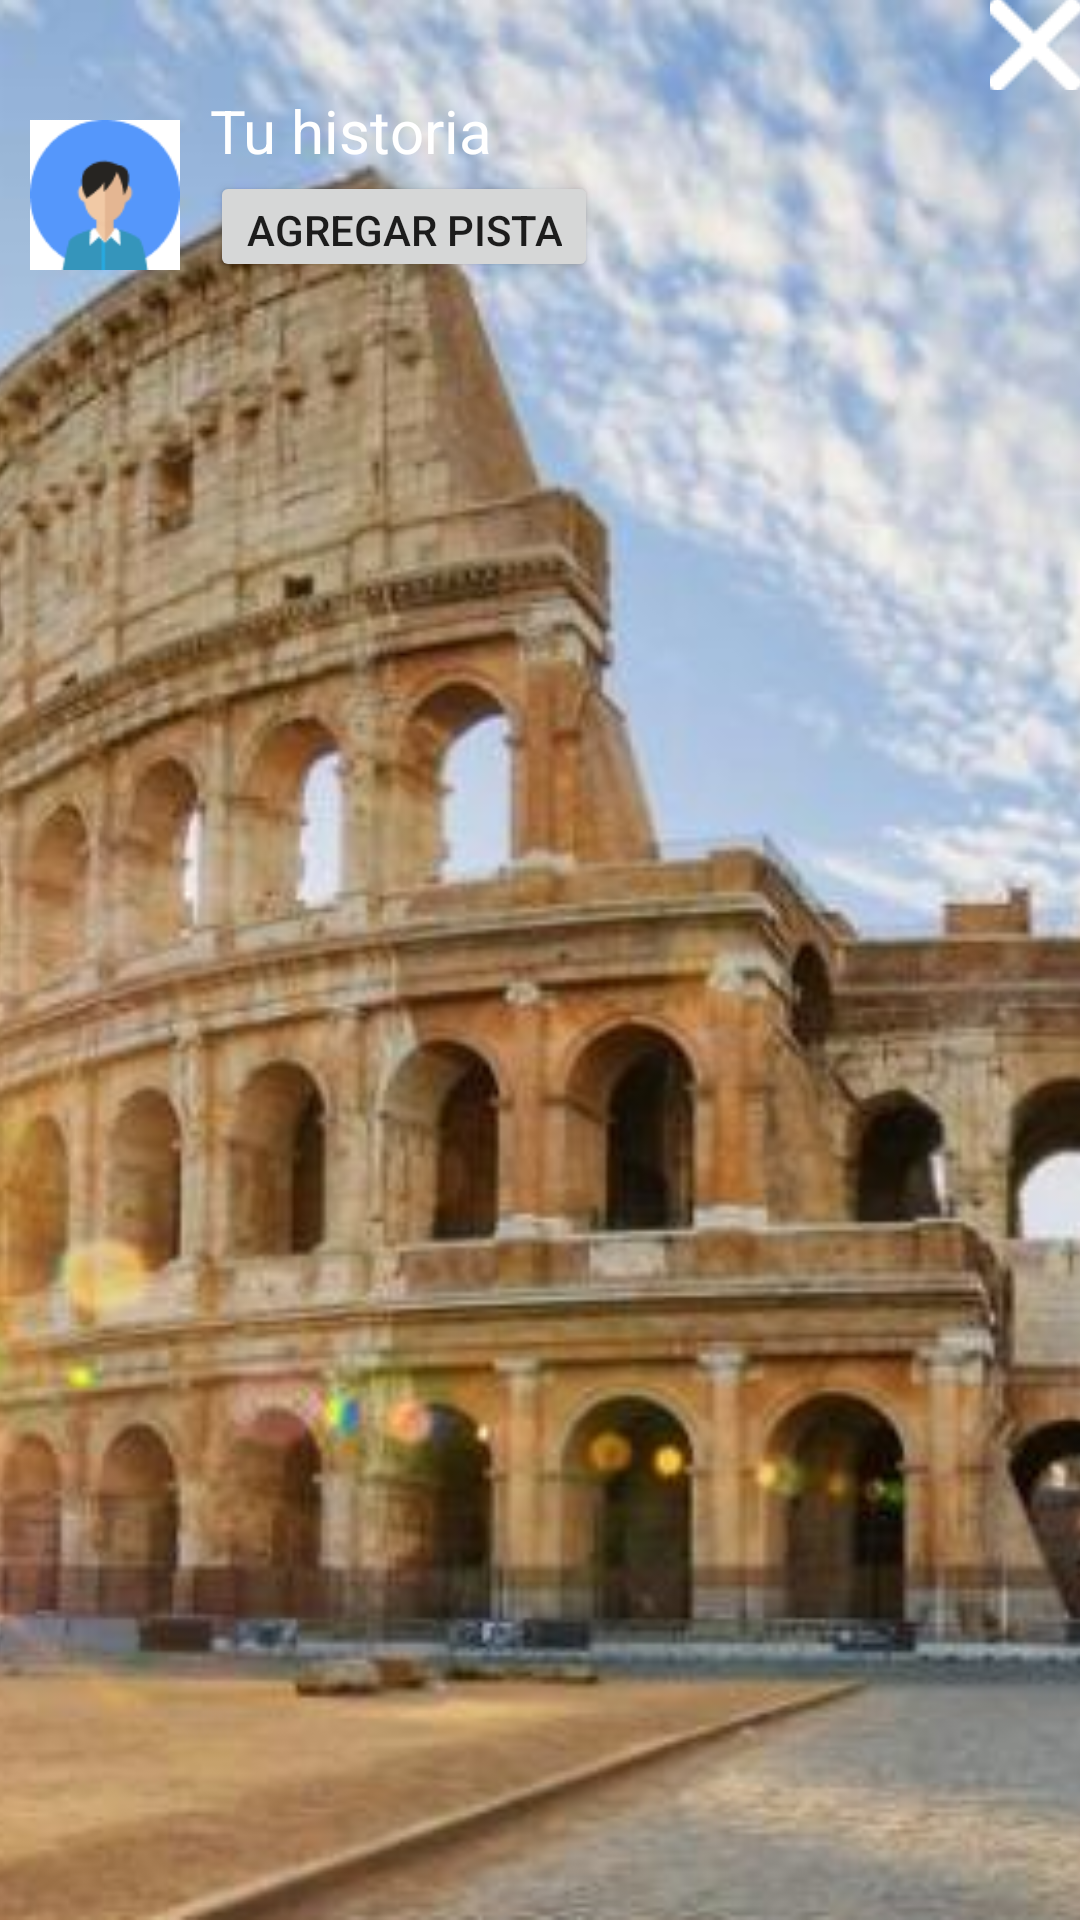

Where to tap for icons on this 1080 x 1920 app screen, as (x=x, y=y):
Cerrar: (x=1035, y=45)
fotop: (x=120, y=198)
